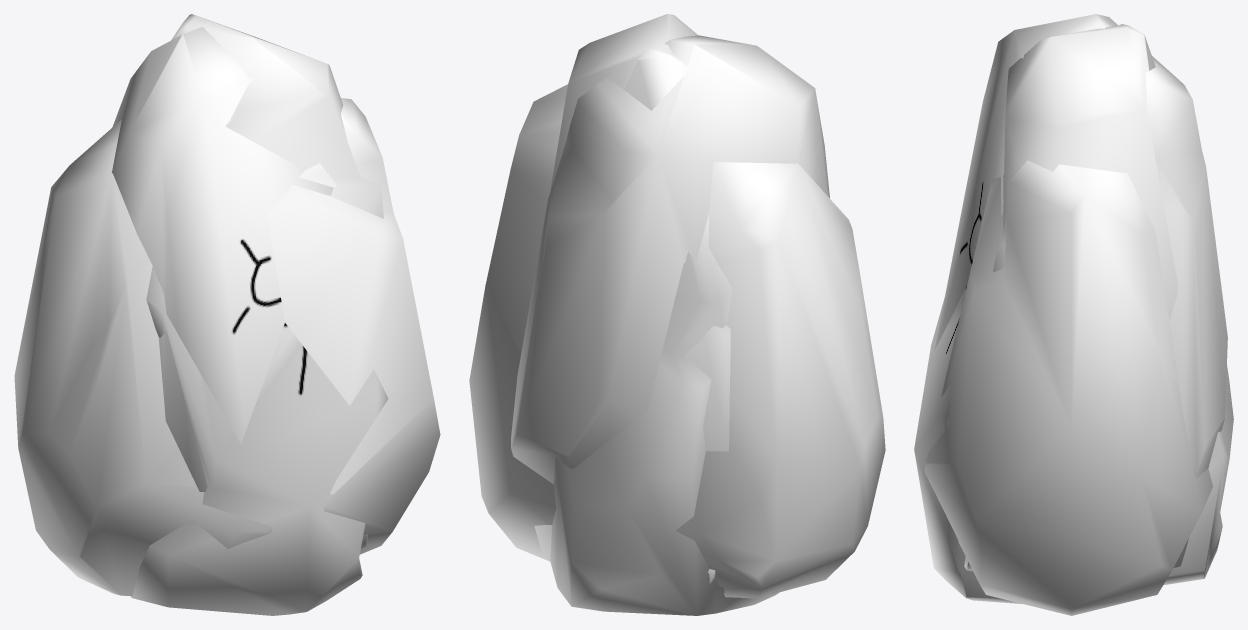
Rendered from rockcircle.fbx.
The picture shows the model from 3 angles, left to right: view 1: azimuth 30°, elevation 25°; view 2: azimuth 150°, elevation 25°; view 3: azimuth 270°, elevation 25°; orthographic projection. The views are drawn at different scales.
Visible parts, largest first — view 1: Cube.001, Cube.004, Cube.003; view 2: Cube.001, Cube.003, Cube.004; view 3: Cube.001, Cube.004, Cube.003.
Part boxes in pixels (x1,y1,x2,y2): Cube.001: [14, 98, 440, 595]; Cube.004: [130, 14, 388, 615]; Cube.003: [112, 27, 333, 491]; Cube.001: [469, 84, 885, 598]; Cube.003: [511, 35, 829, 593]; Cube.004: [549, 14, 779, 615]; Cube.001: [924, 160, 1212, 615]; Cube.004: [914, 24, 1233, 603]; Cube.003: [934, 14, 1227, 567].
Size of the model in its own units: 413 by 564 by 301.
